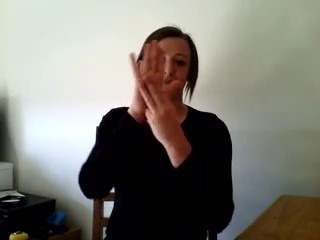M: (121, 36, 189, 156)
